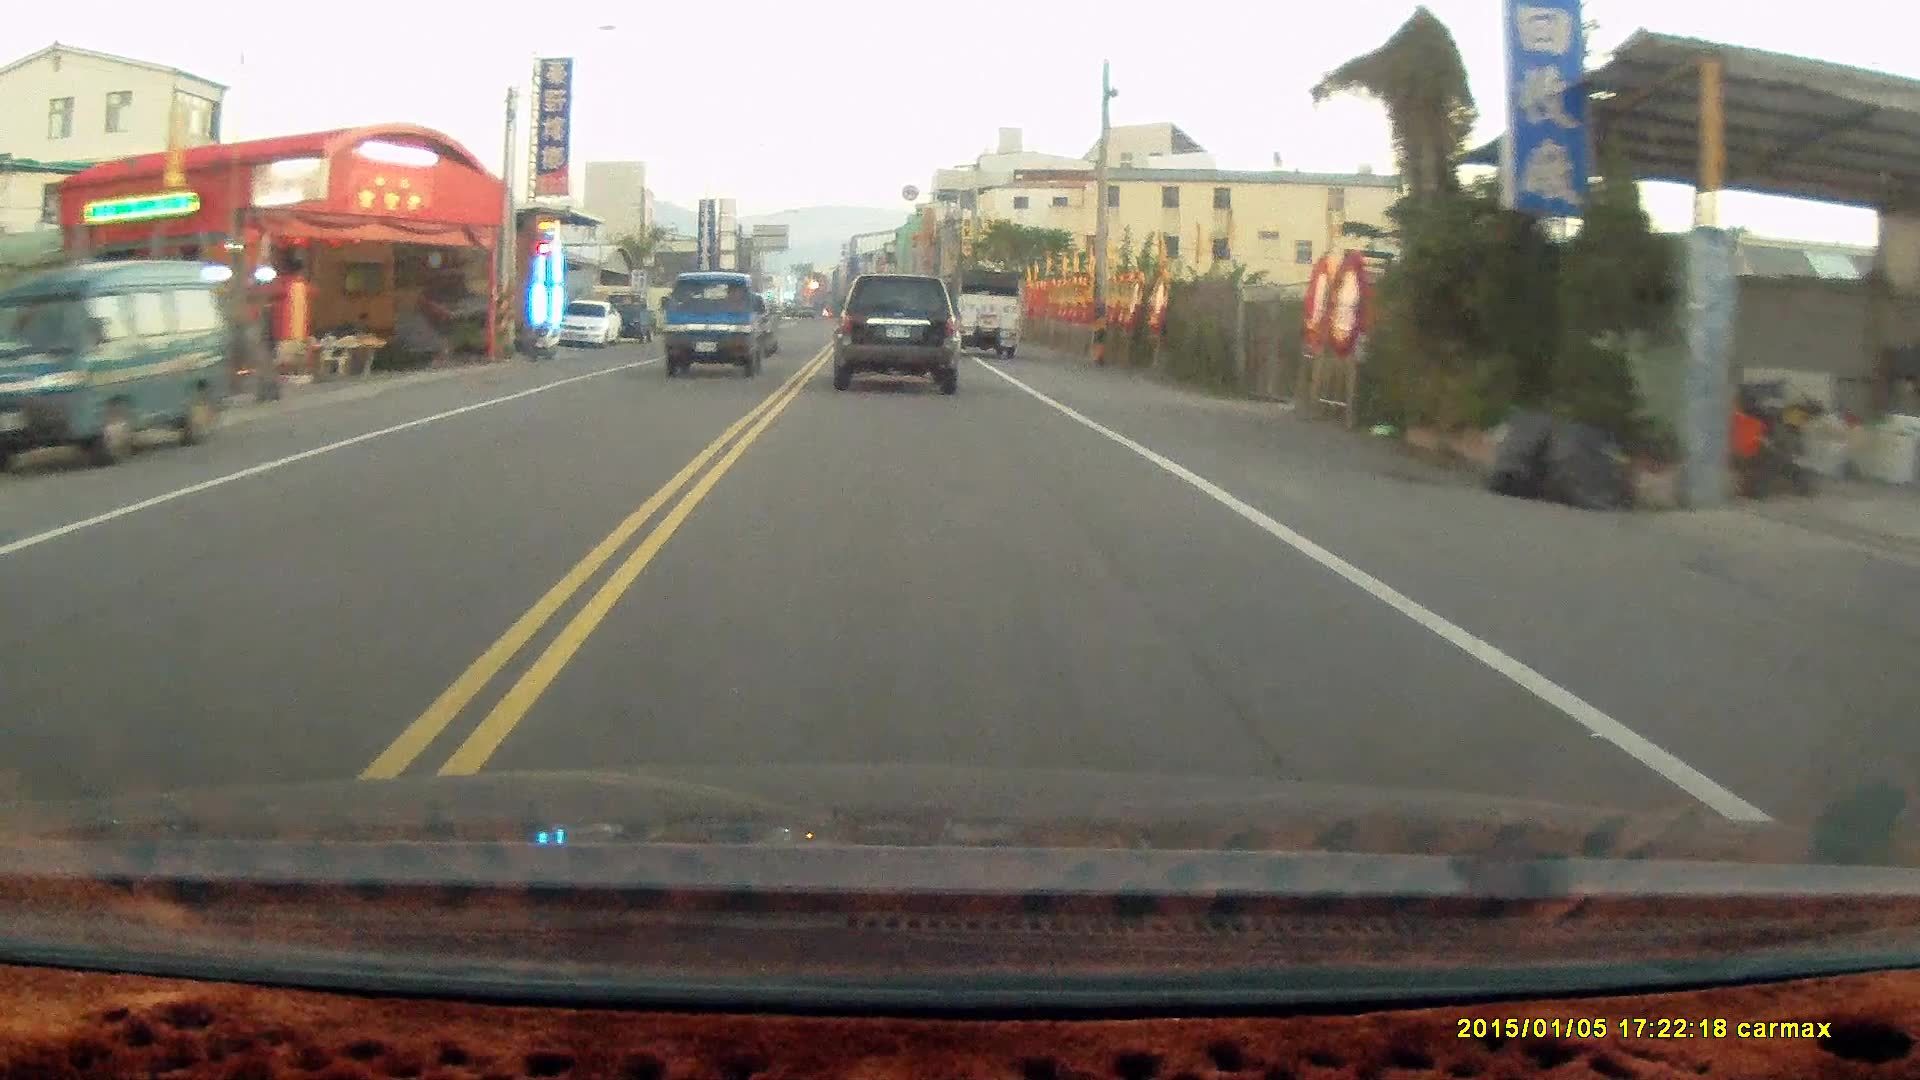vehicle: (9, 256, 243, 469), (837, 265, 971, 392), (661, 266, 782, 373), (939, 264, 1026, 357), (556, 301, 624, 345)
